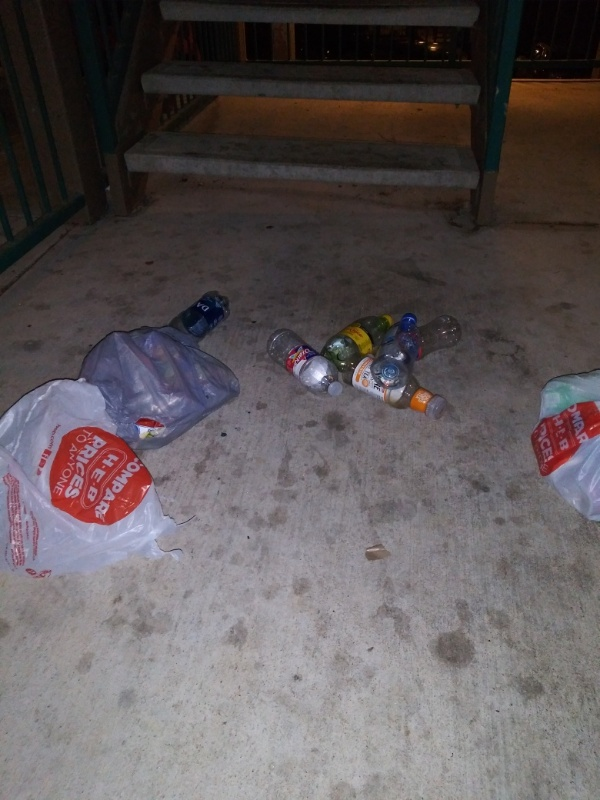bottle: (342, 350, 449, 420), (259, 325, 348, 401), (321, 308, 397, 376), (370, 310, 423, 387), (389, 311, 463, 366), (169, 289, 235, 342)
